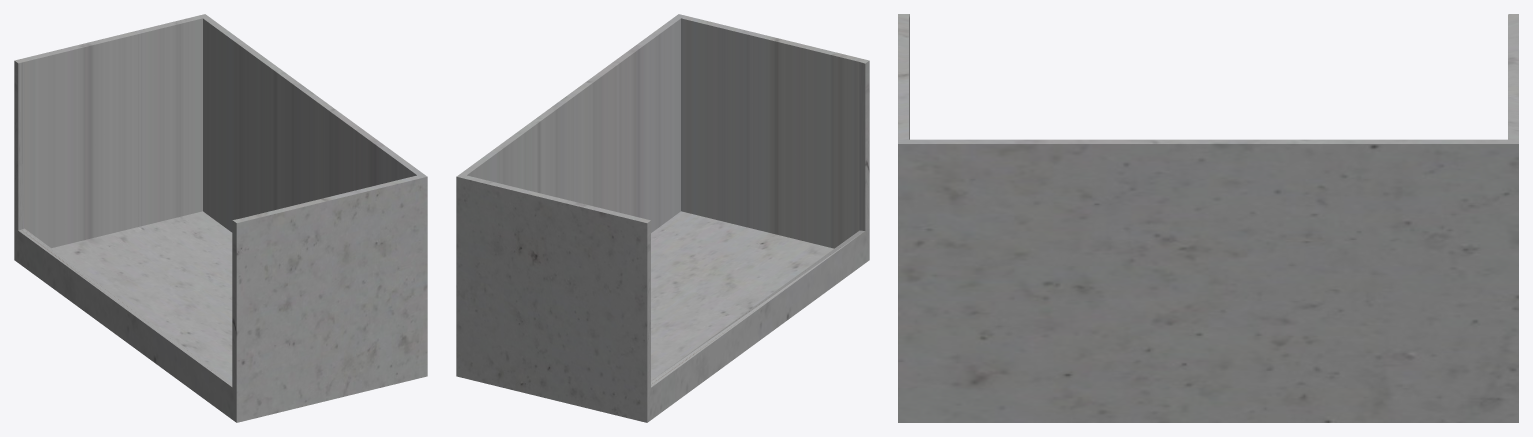
File: container_side_open.dae
3 renders of one model, left to right at view 1: azimuth 30°, elevation 25°; view 2: azimuth 150°, elevation 25°; view 3: azimuth 270°, elevation 25°, orthographic. The views are drawn at different scales.
Visible parts, largest first — view 1: Cube; view 2: Cube; view 3: Cube.
Boxes of the visible parts, x1=… form: Cube: x1=14, y1=14, x2=427, y2=422; Cube: x1=456, y1=14, x2=869, y2=422; Cube: x1=898, y1=14, x2=1518, y2=422.
Size of the model in its own units: 0.2632 by 0.531 by 0.2632.
1 material, 1 textured.
